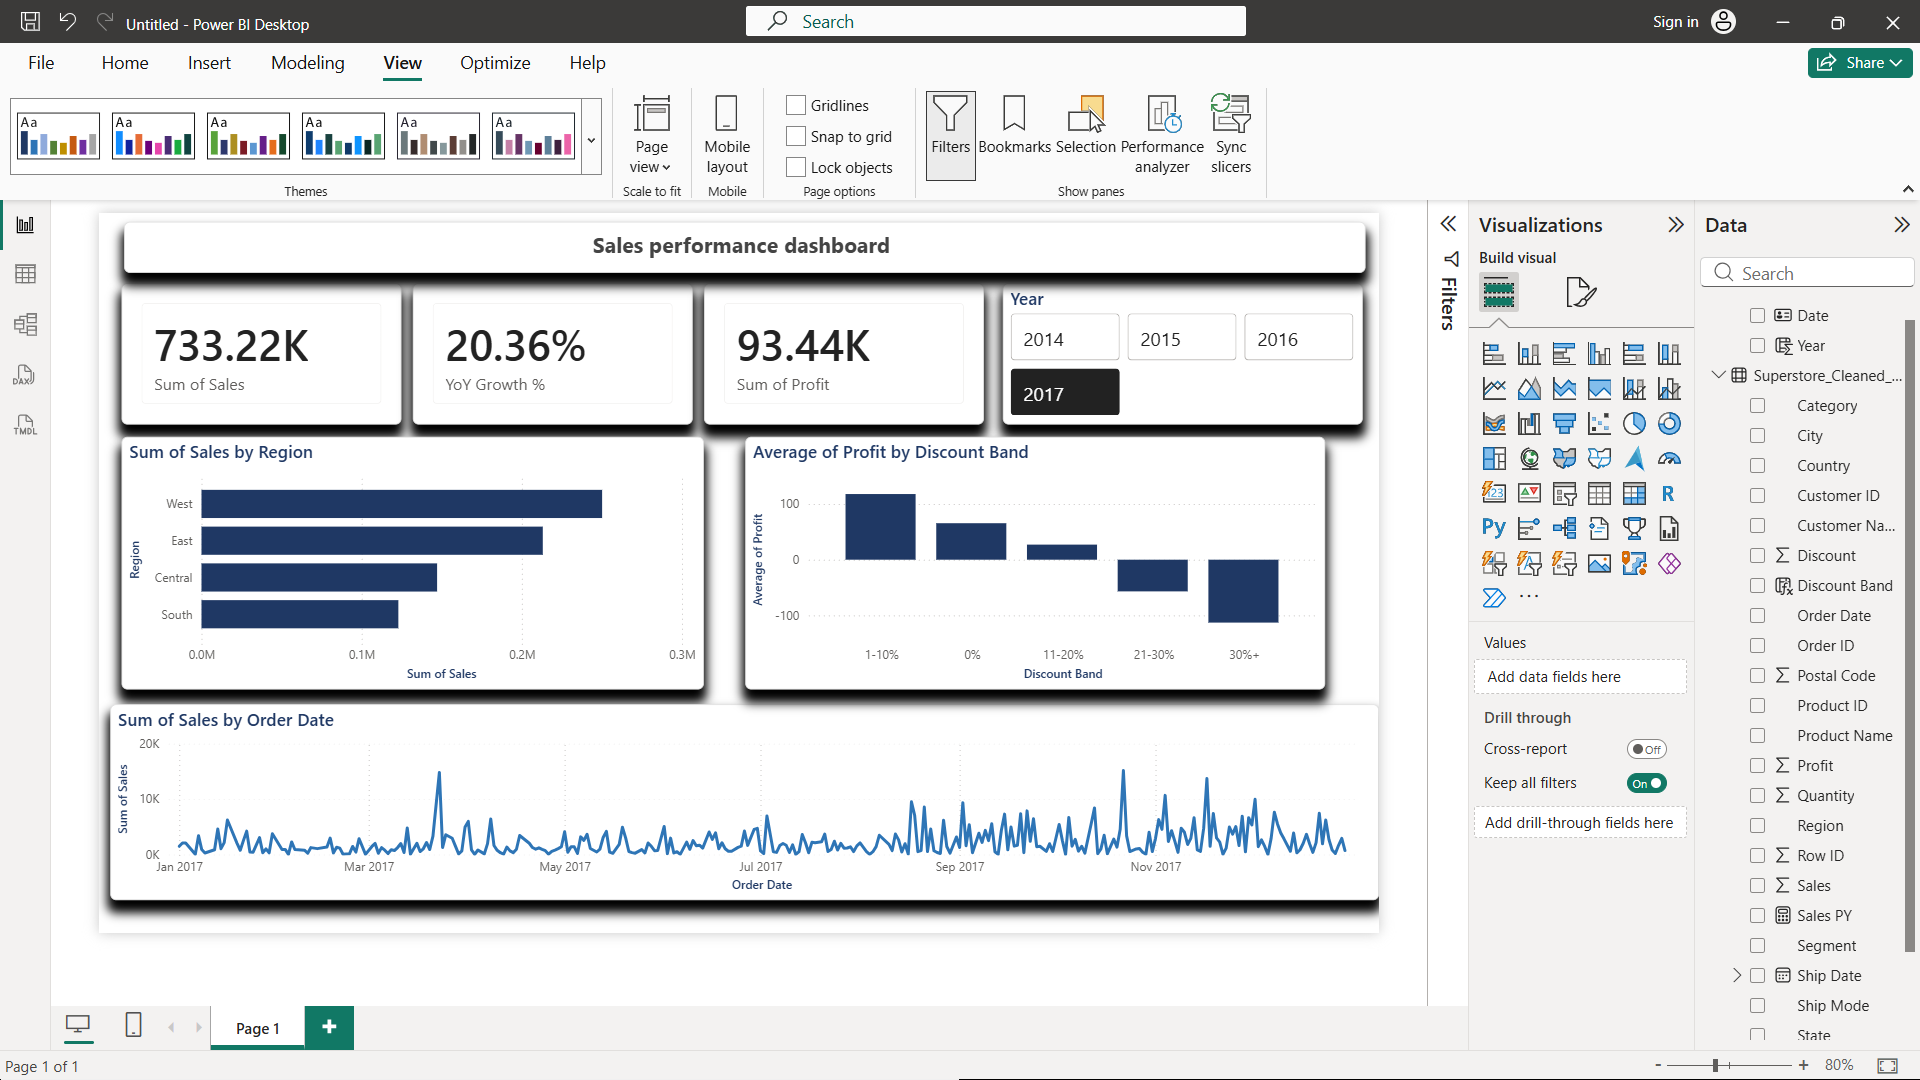

The dashboard page shown, as its layout file describes it:
{"tool":"powerbi","page":{"name":"Page 1","canvas":[1280,720],"ordinal":0},"visuals":[{"type":"cardVisual","fields":{"Data":["Sum(Superstore_Cleaned_ByMe.Sales)"]},"box":[22.5,70,280,141.2],"z":0},{"type":"cardVisual","fields":{"Data":["Superstore_Cleaned_ByMe.YoY Growth %"]},"box":[313.8,70,280,141.2],"z":1},{"type":"advancedSlicerVisual","fields":{"Values":["Date.Year"]},"box":[903.8,70,360,141.2],"z":2},{"type":"cardVisual","fields":{"Data":["Sum(Superstore_Cleaned_ByMe.Profit)"]},"box":[605,70,280,141.2],"z":3},{"type":"clusteredBarChart","fields":{"Category":["Superstore_Cleaned_ByMe.Region"],"Y":["Sum(Superstore_Cleaned_ByMe.Sales)"]},"box":[22.5,223.8,582.5,252.5],"z":4},{"type":"lineChart","fields":{"Category":["Superstore_Cleaned_ByMe.Order Date"],"Y":["Sum(Superstore_Cleaned_ByMe.Sales)"]},"box":[11.2,491.2,1268.8,196.2],"z":5},{"type":"clusteredColumnChart","fields":{"Category":["Superstore_Cleaned_ByMe.Discount Band"],"Y":["Avg(Superstore_Cleaned_ByMe.Profit)"]},"box":[646.2,223.8,580,252.5],"z":6},{"type":"textbox","box":[25,8.8,1241.2,51.2],"z":7}]}

Visuals, with their boxes on the page's 1280x720 design canvas (x1, y1, x2, y2). These are canvas units, not pixel positions in the 1920x1080 screenshot, which may show the page scaled, cropped or inside an application window:
cardVisual - Sum(Superstore_Cleaned_ByMe.Sales): 22,70,302,211
cardVisual - Superstore_Cleaned_ByMe.YoY Growth %: 314,70,594,211
advancedSlicerVisual - Date.Year: 904,70,1264,211
cardVisual - Sum(Superstore_Cleaned_ByMe.Profit): 605,70,885,211
clusteredBarChart - Superstore_Cleaned_ByMe.Region x Sum(Superstore_Cleaned_ByMe.Sales): 22,224,605,476
lineChart - Superstore_Cleaned_ByMe.Order Date x Sum(Superstore_Cleaned_ByMe.Sales): 11,491,1280,687
clusteredColumnChart - Superstore_Cleaned_ByMe.Discount Band x Avg(Superstore_Cleaned_ByMe.Profit): 646,224,1226,476
textbox: 25,9,1266,60
